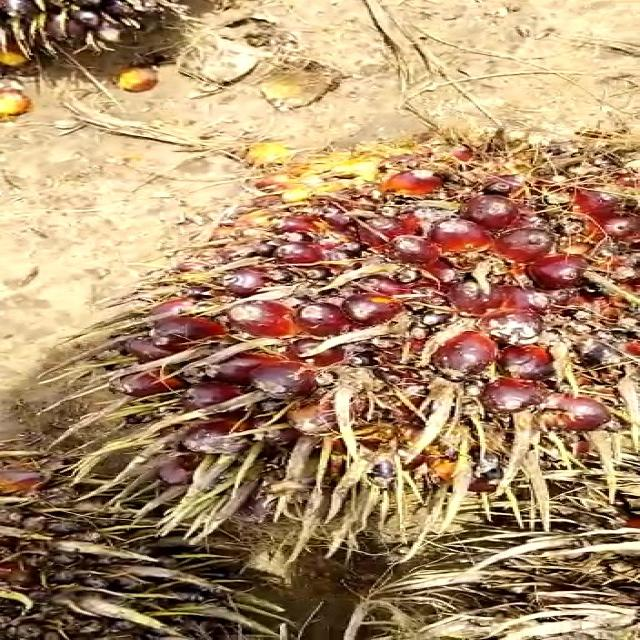palm oil: (117, 130, 640, 529)
